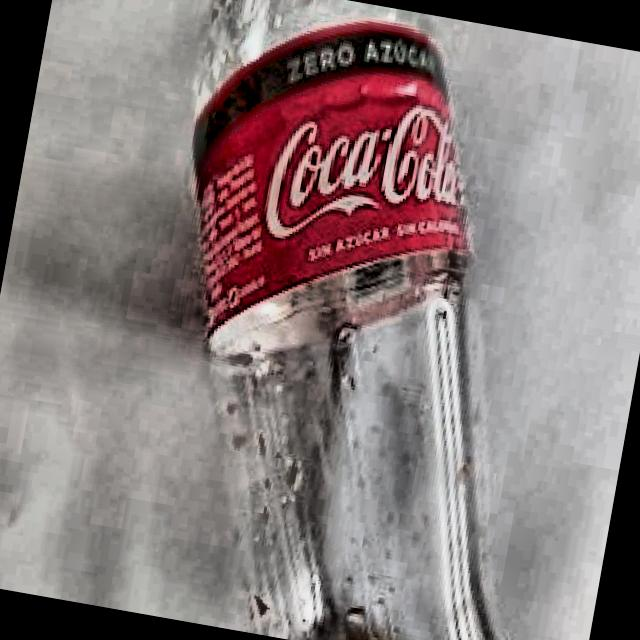plastic bottle: (188, 0, 516, 640)
